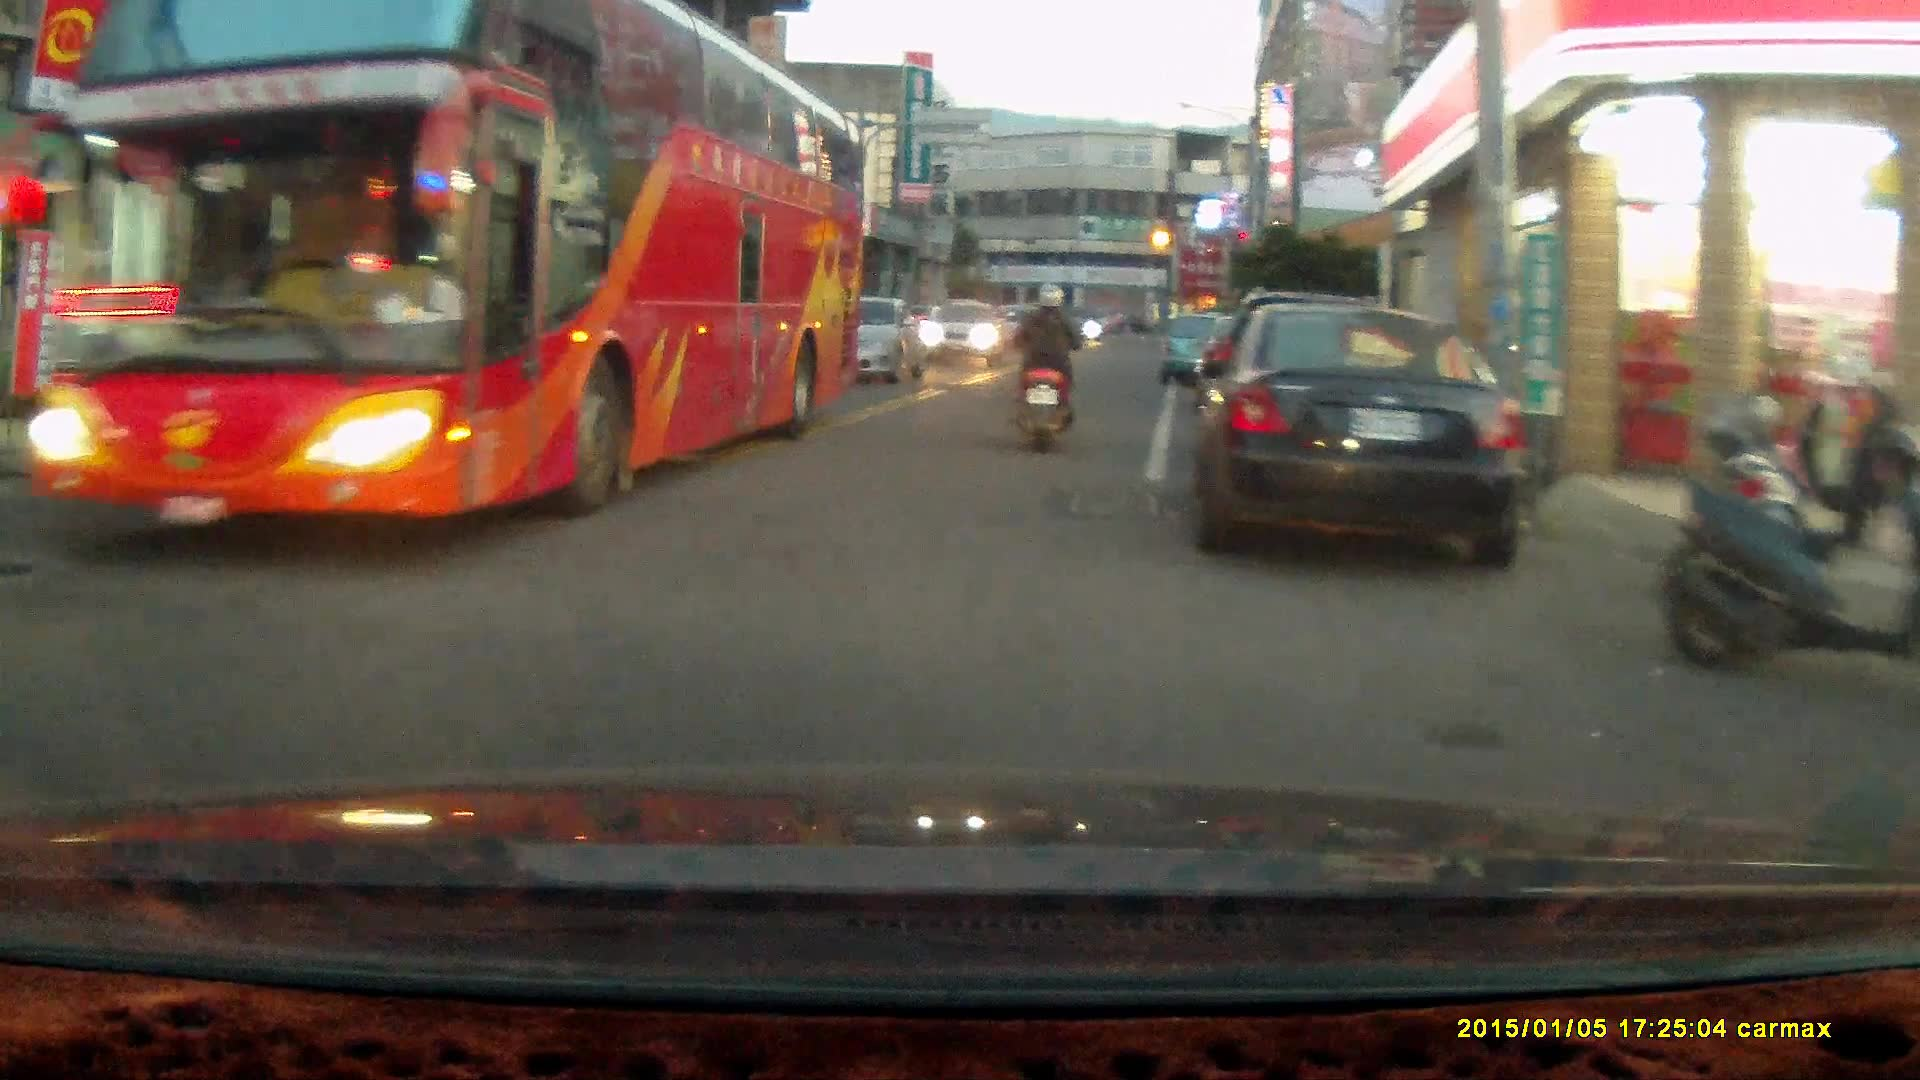rider: (1009, 282, 1083, 453)
vehicle: (64, 12, 870, 538), (1173, 299, 1529, 571), (809, 294, 920, 385), (914, 297, 1009, 364), (1161, 315, 1241, 389)
